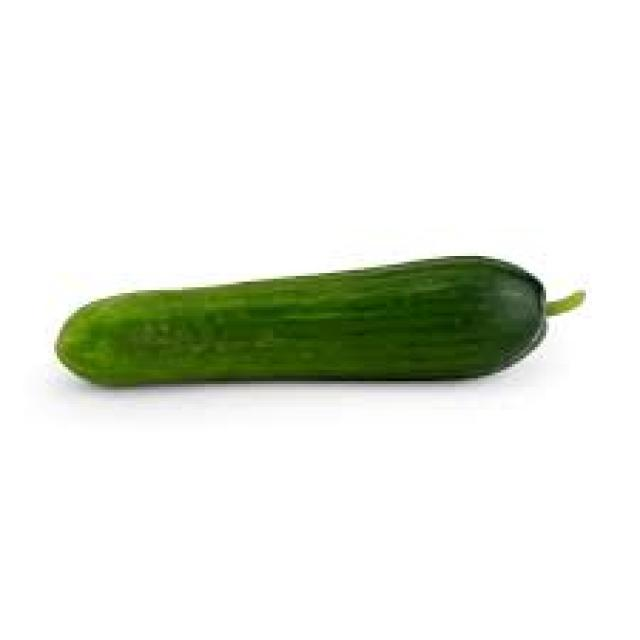cucumber: (51, 250, 548, 387)
